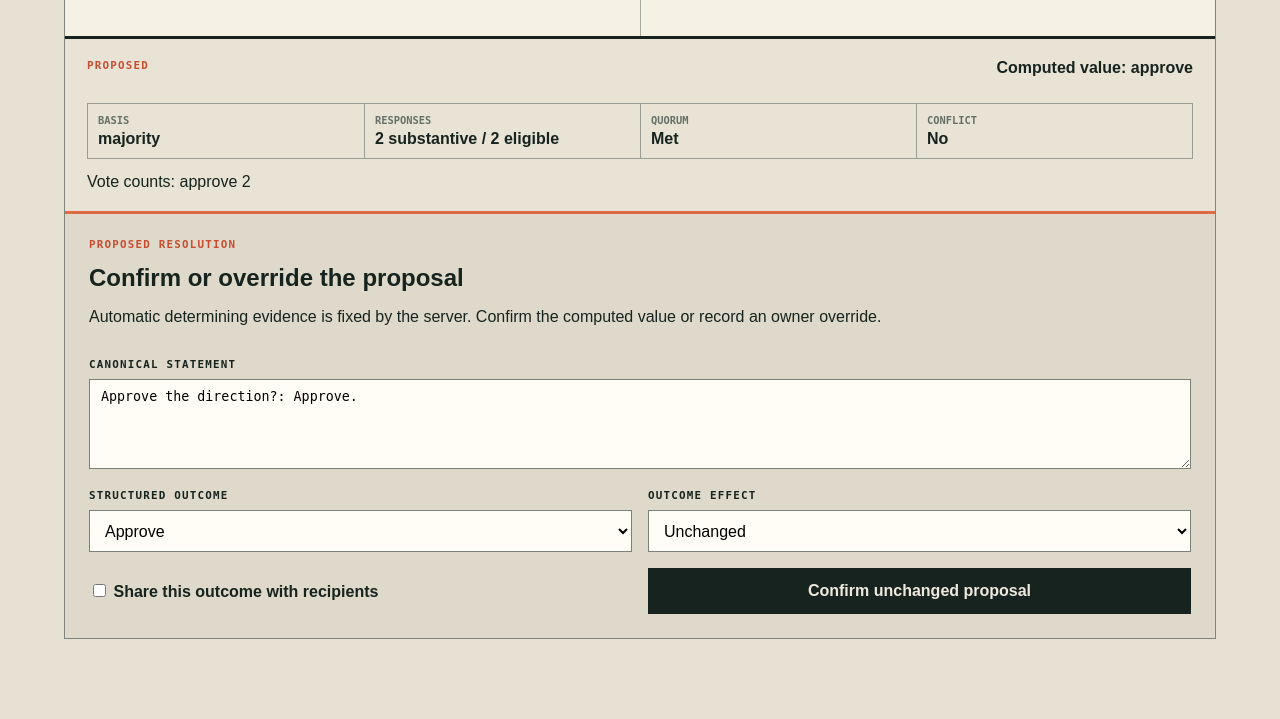
Test: review resolution › labels a changed computed proposal as an owner override
(page scrolled)
Expected: the button "Confirm unchanged proposal" is shown, [648, 568, 1191, 614]
Select "Reject" in the dropdown labelled "Structured outcome" at {"x": 360, "y": 531}, box [89, 510, 632, 552]
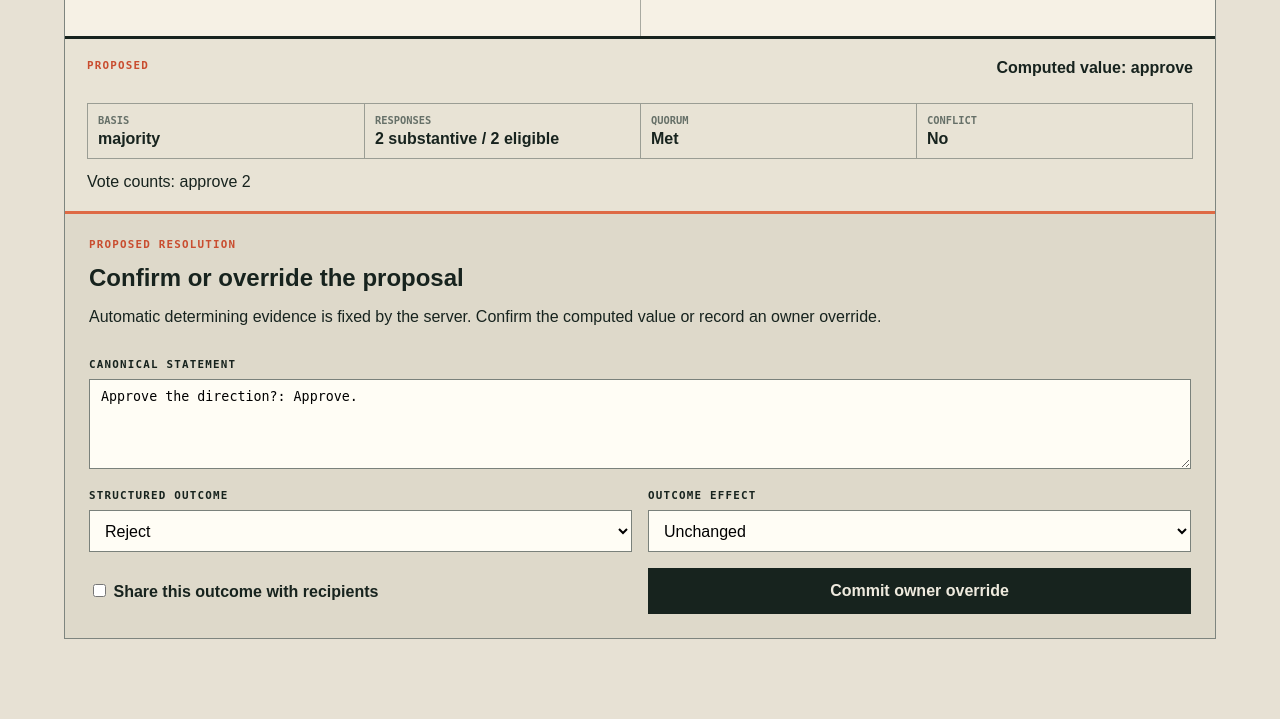
Expected: the button "Commit owner override" is shown, [648, 568, 1191, 614]
